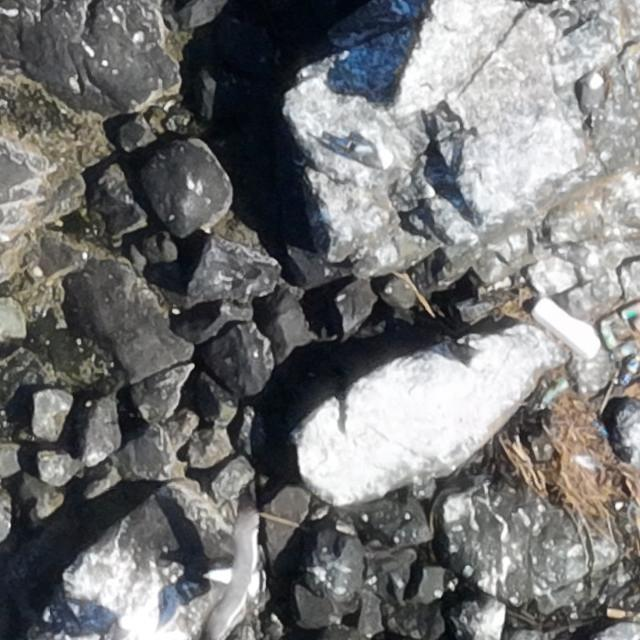F: (206, 500, 266, 631)
umineko: (348, 138, 397, 172), (453, 339, 492, 375), (585, 76, 603, 111)
